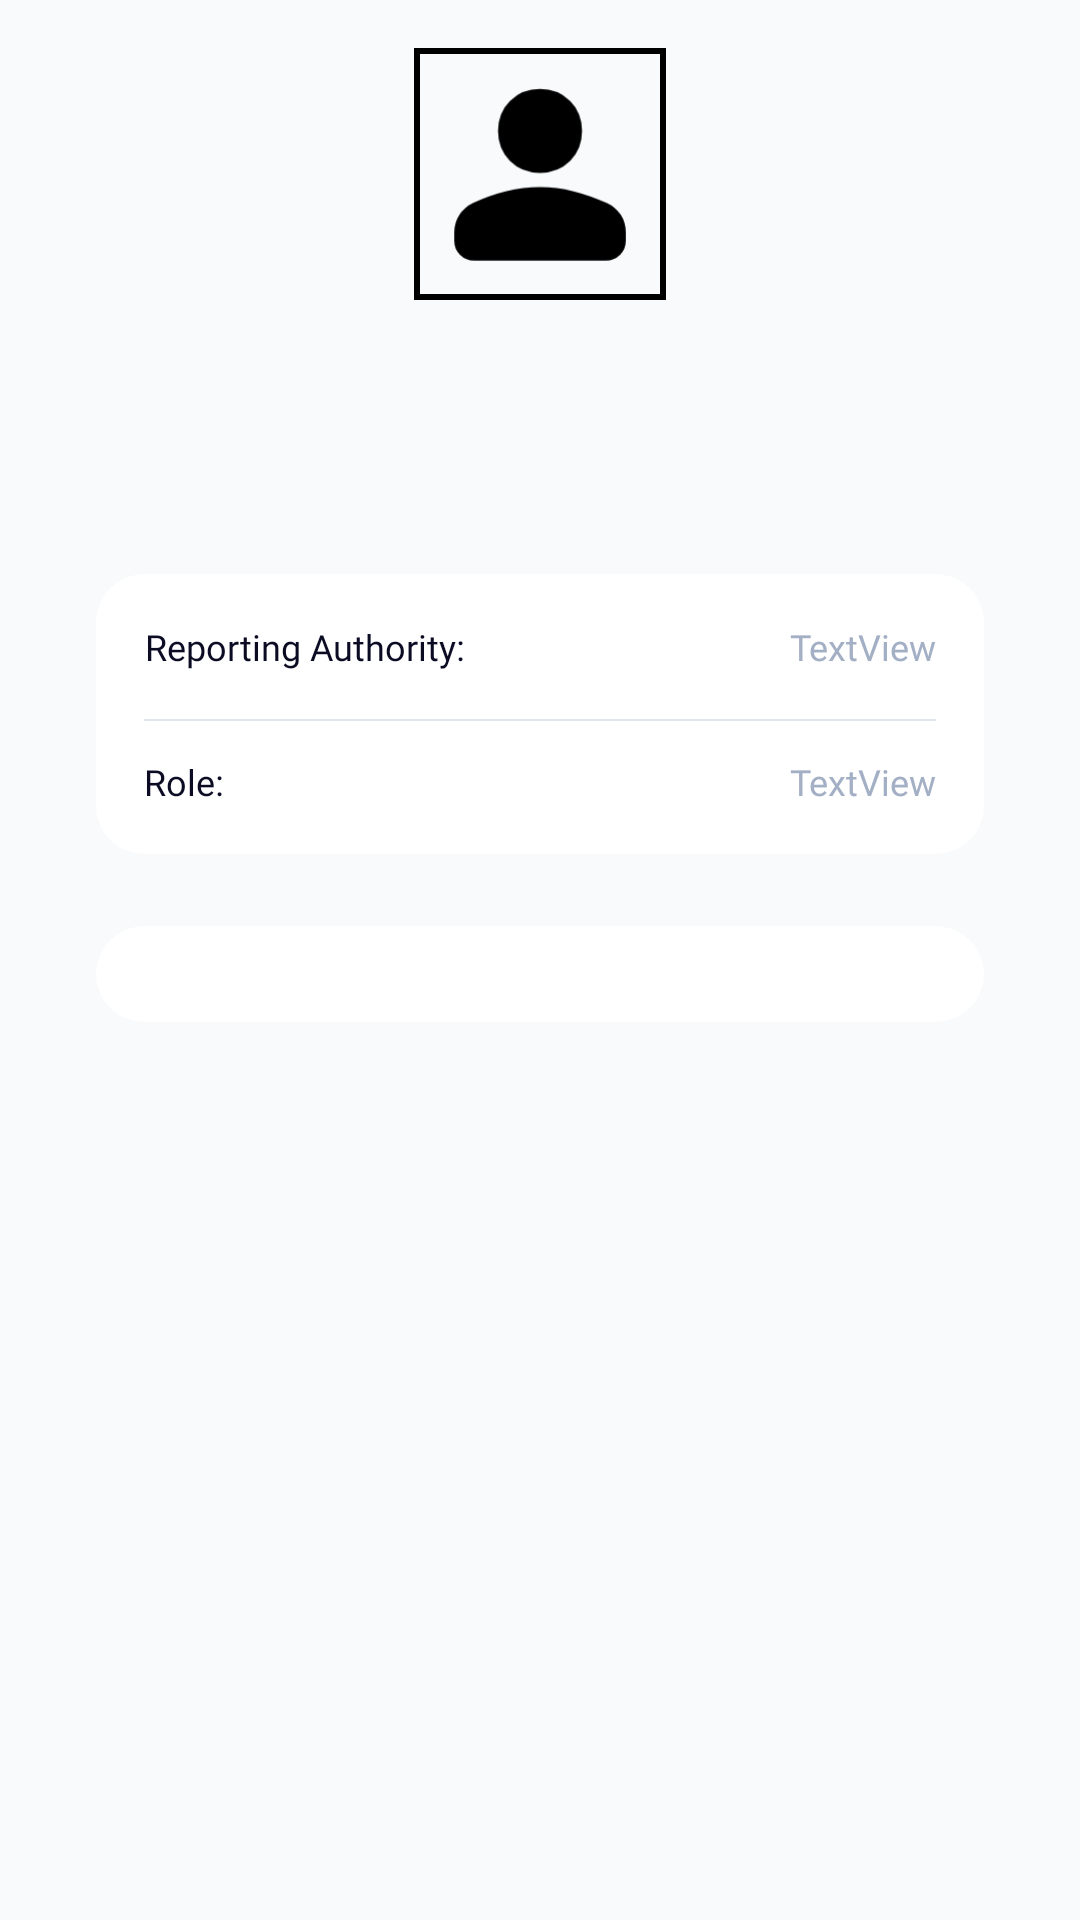

Icon bounding boxes for this 1080 x 1920 phone screenshot, format (x1, y1, x2, y2):
profile: (414, 48, 666, 300)
